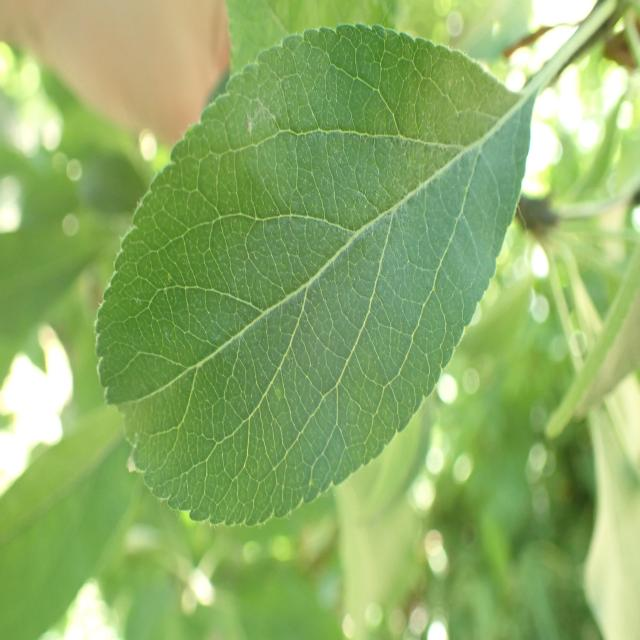healthy: (95, 22, 537, 528)
